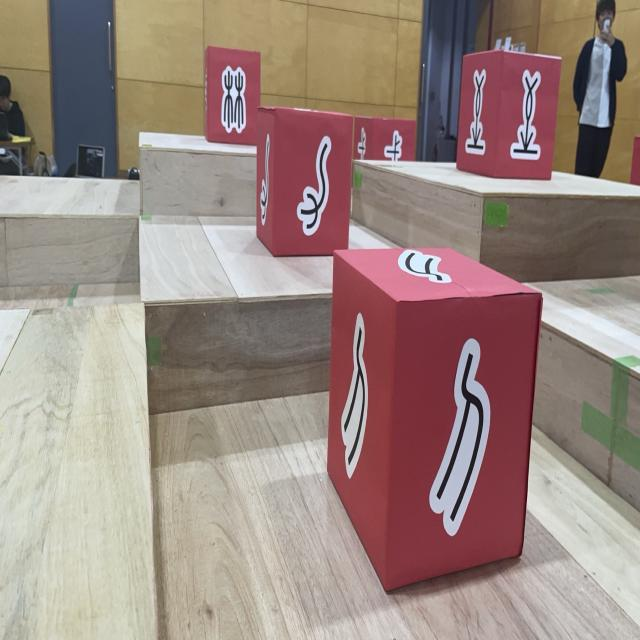10: (429, 336, 492, 538), (341, 312, 369, 480), (398, 249, 452, 283)
13: (296, 135, 332, 237), (260, 134, 270, 226)
2: (221, 65, 247, 135)
7: (511, 68, 542, 161), (466, 68, 486, 155)
9: (384, 130, 402, 159), (358, 127, 366, 160)
fighter: (327, 247, 543, 592), (256, 105, 354, 257), (457, 47, 562, 182), (204, 45, 261, 145), (629, 135, 640, 186)
